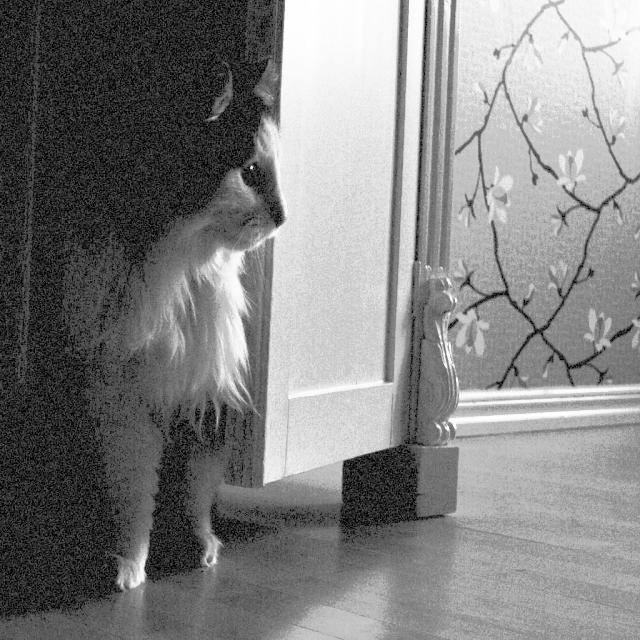Cat: (28, 30, 322, 614)
